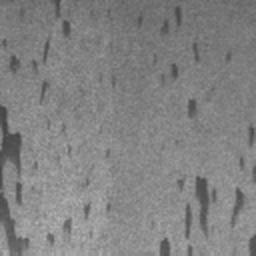Red iron sheet: (0, 105, 111, 256), (159, 125, 256, 256), (3, 0, 72, 105), (152, 41, 200, 86), (137, 6, 183, 36), (187, 99, 197, 119), (248, 234, 256, 256), (225, 52, 233, 63), (104, 147, 110, 157), (61, 123, 65, 134)
